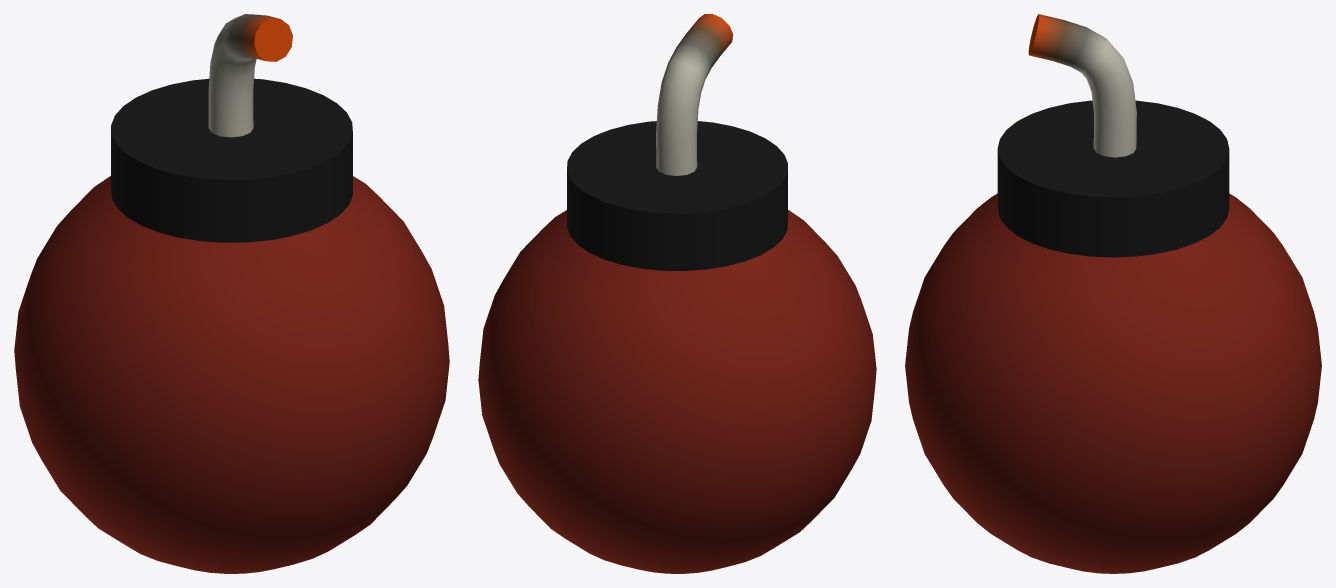
Rendered from SM_Bomb_01_A_1.FBX.
3 renders of one model, left to right at view 1: azimuth 30°, elevation 25°; view 2: azimuth 150°, elevation 25°; view 3: azimuth 270°, elevation 25°, orthographic. The views are drawn at different scales.
Visible parts, largest first — view 1: Sphere001; view 2: Sphere001; view 3: Sphere001.
Boxes of the visible parts, x1,y1,x2,y2 form: Sphere001: (14, 14, 449, 573); Sphere001: (478, 14, 876, 573); Sphere001: (905, 14, 1321, 573).
Size of the model in its own units: 79.02 by 113 by 79.02.
